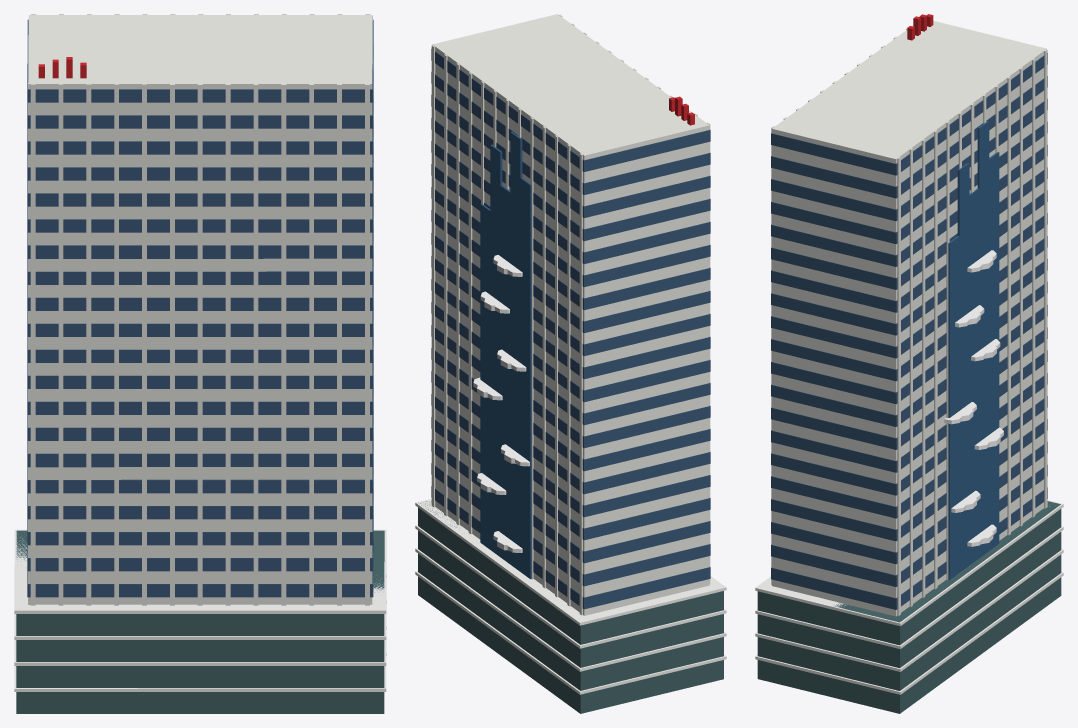
Rendered from millennium.glb.
3 views of the same model, side by side, from view 1: azimuth 30°, elevation 25°; view 2: azimuth 150°, elevation 25°; view 3: azimuth 270°, elevation 25° (orthographic). The views are drawn at different scales.
Visible parts, largest first — view 1: millennium; view 2: millennium; view 3: millennium.
Part boxes in pixels (left/top/right/bottom): millennium: left=14, top=14, right=386, bottom=713; millennium: left=415, top=14, right=726, bottom=713; millennium: left=755, top=14, right=1063, bottom=713.
Bounding box in the file's own units: 60.07 × 102 × 50.46.
